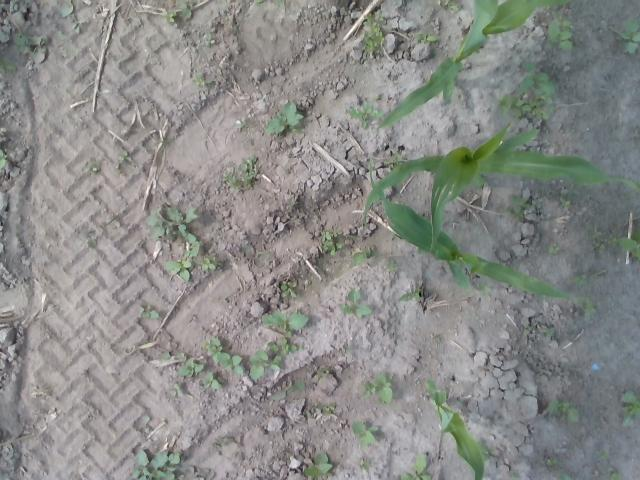Maize: (360, 122, 640, 253), (362, 156, 587, 306), (376, 0, 574, 129), (424, 378, 484, 480)
Weeds: (496, 60, 556, 120), (146, 204, 198, 244), (249, 338, 297, 380), (203, 336, 244, 376), (162, 241, 200, 282), (131, 449, 181, 480), (264, 100, 304, 136), (261, 310, 310, 338), (360, 8, 386, 60), (222, 156, 258, 193), (544, 10, 574, 51), (360, 372, 394, 405), (586, 223, 620, 256), (348, 100, 384, 128), (340, 287, 372, 318), (617, 17, 640, 54), (399, 455, 431, 480), (12, 32, 48, 54), (502, 194, 530, 222), (546, 398, 578, 422), (352, 420, 377, 450), (304, 452, 332, 478), (175, 352, 202, 377), (272, 380, 304, 401), (621, 391, 640, 426), (620, 228, 640, 260), (320, 230, 344, 256), (352, 248, 380, 266), (398, 285, 422, 303), (578, 296, 596, 317), (196, 255, 218, 271), (200, 372, 222, 388), (158, 343, 178, 360), (383, 152, 403, 169), (412, 33, 438, 46), (280, 280, 298, 298), (558, 191, 574, 211), (477, 441, 493, 461), (136, 306, 160, 319), (476, 281, 493, 299), (177, 0, 191, 21), (56, 0, 74, 16), (436, 0, 460, 12), (567, 272, 588, 285), (312, 403, 336, 414), (192, 74, 212, 87), (160, 9, 177, 24), (168, 384, 186, 398), (0, 59, 17, 72), (358, 456, 373, 470), (608, 467, 624, 480), (541, 325, 556, 338), (82, 162, 99, 173), (202, 32, 215, 46), (240, 244, 254, 254), (387, 260, 398, 272), (117, 150, 129, 161), (86, 239, 99, 249), (70, 20, 80, 32), (548, 244, 560, 254), (555, 473, 572, 480), (0, 150, 6, 169), (546, 458, 560, 466), (510, 469, 520, 479), (317, 368, 328, 377), (342, 344, 351, 354), (523, 323, 532, 331), (600, 450, 609, 458), (274, 0, 284, 6), (253, 0, 264, 3), (238, 125, 242, 132)
